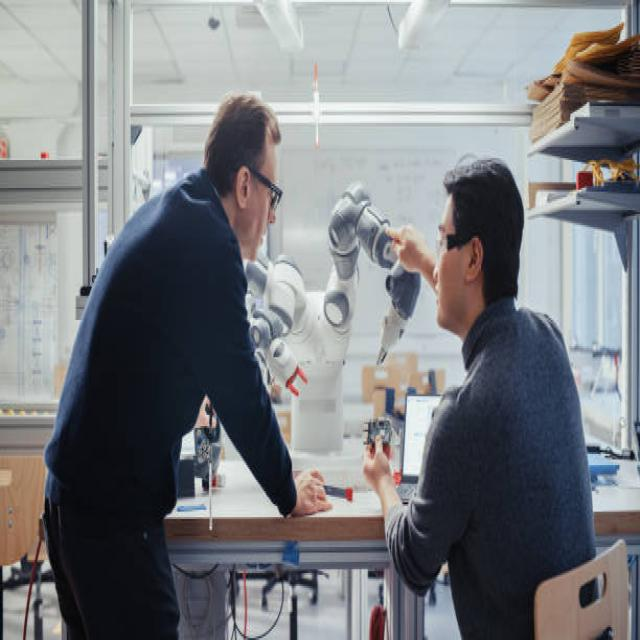Robotic-arm: (315, 171, 430, 406), (243, 231, 315, 416)
